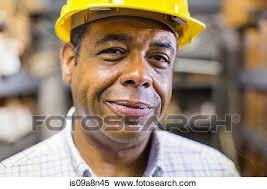Person_wearing_helmet: (50, 0, 204, 78)
